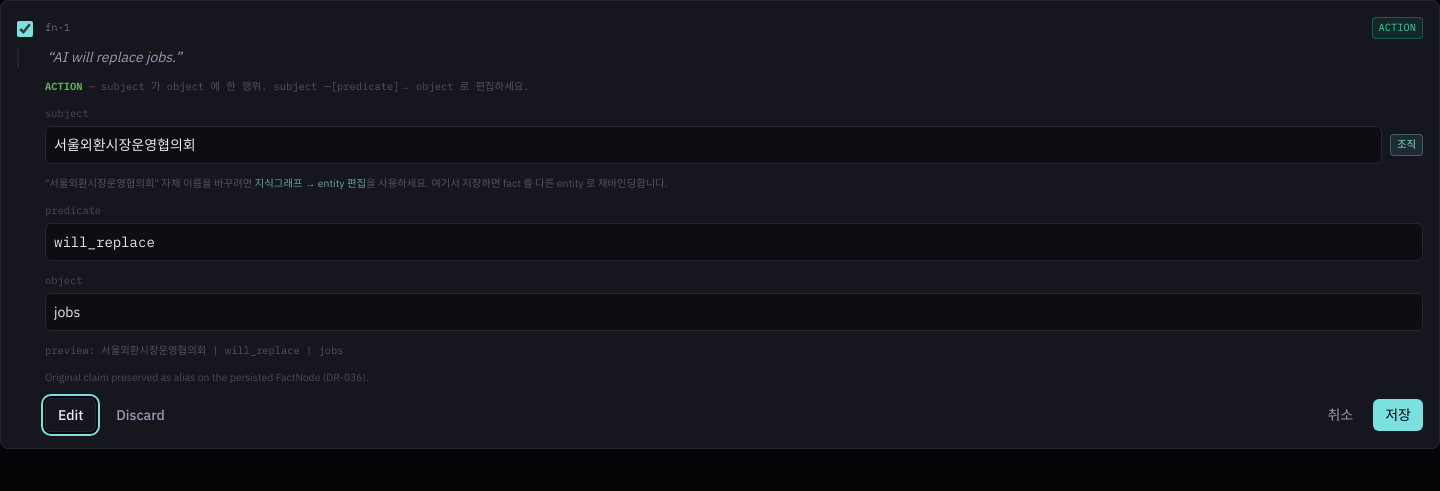
it: FactCard - decide-ux-v3: autocomplete LIVE path › LIVE path: typing -> debounce -> API call -> setState -> chips render
Replace the text in the field with test id "fact-edit-subject-fn-1" with "ACME" at [713, 145], box [45,126,1382,164]
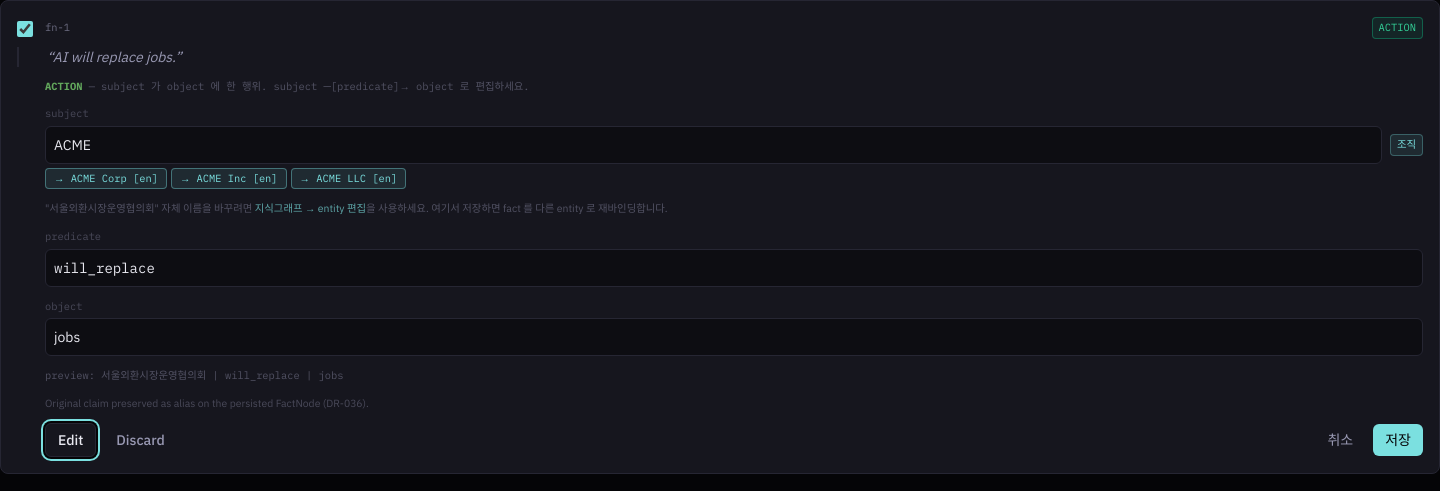
Check: the button with test id "subject-chip-uuid-acme" is shown, box [45,168,167,189]
Check: the button with test id "subject-chip-uuid-acme2" is shown, box [171,168,287,189]
Check: the button with test id "subject-chip-uuid-acme3" is shown, box [291,168,406,189]
